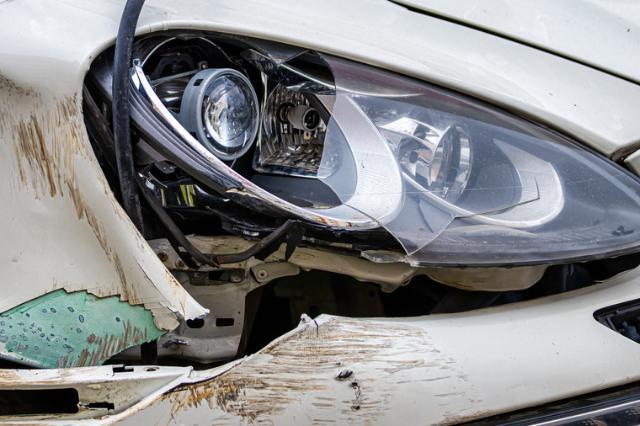Bumper: (71, 269, 640, 426)
Fender: (0, 0, 640, 385)
Light: (81, 35, 640, 270)
